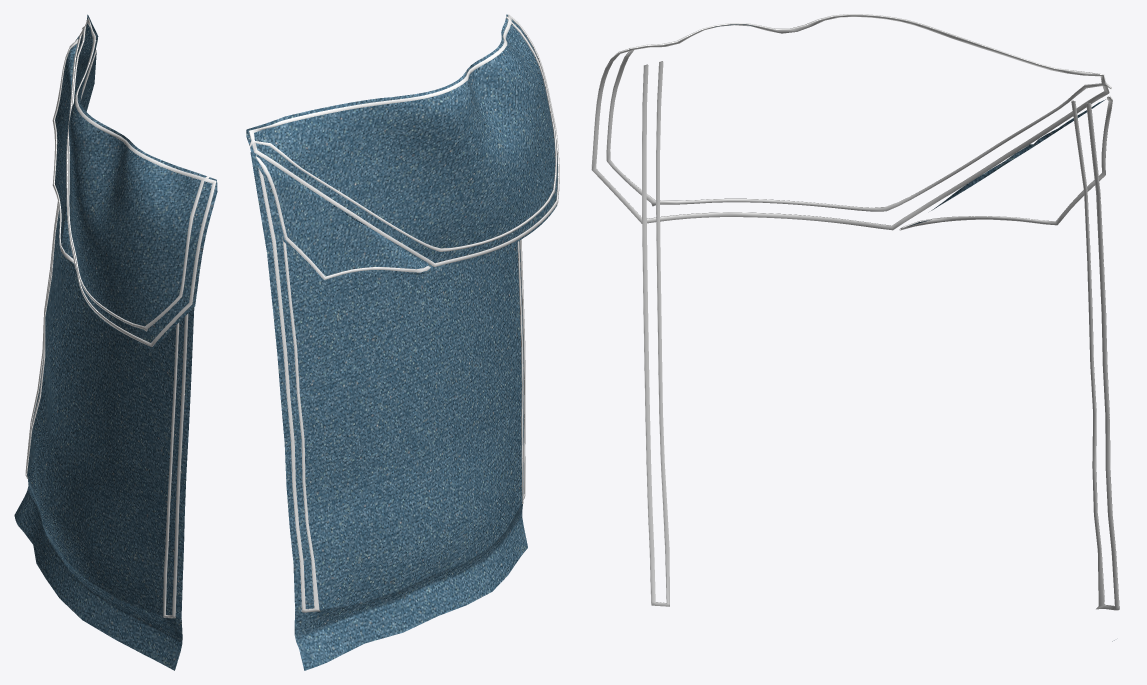
The model's file is Pants_Pocket_Left_V2.glb.
3 renders of one model, left to right at view 1: azimuth 30°, elevation 25°; view 2: azimuth 150°, elevation 25°; view 3: azimuth 270°, elevation 25°, orthographic. The views are drawn at different scales.
Visible parts, largest first — view 1: Pants_Pocket_Left.003, Pants_Rope_Pocket_Left.003; view 2: Pants_Pocket_Left.003, Pants_Rope_Pocket_Left.003; view 3: Pants_Rope_Pocket_Left.003.
Part boxes in pixels (x1=…): Pants_Pocket_Left.003: x1=14, y1=14, x2=217, y2=670; Pants_Rope_Pocket_Left.003: x1=25, y1=18, x2=216, y2=618; Pants_Pocket_Left.003: x1=246, y1=14, x2=557, y2=670; Pants_Rope_Pocket_Left.003: x1=249, y1=14, x2=559, y2=612; Pants_Rope_Pocket_Left.003: x1=591, y1=14, x2=1119, y2=610.
Size of the model in its own units: 0.0777 by 0.296 by 0.2225.
2 materials, 2 textured.
